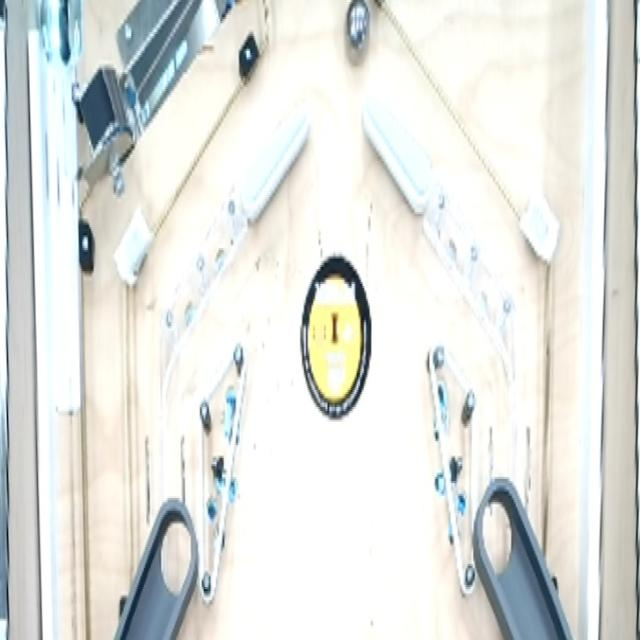ball: (340, 0, 376, 68)
flipper-left: (358, 88, 437, 222)
flipper-right: (236, 107, 314, 233)
